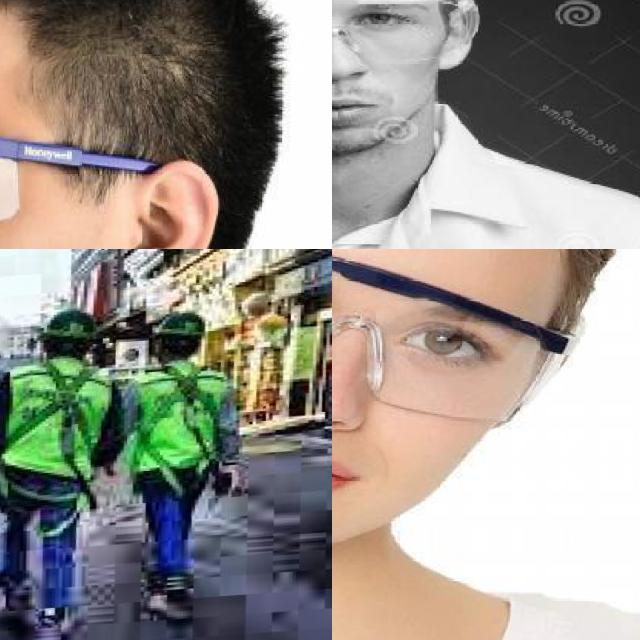Harness: (132, 363, 232, 490), (8, 358, 95, 464)
No_Ear-Protection: (117, 154, 222, 249)
face_nomask: (332, 260, 475, 514), (332, 0, 412, 146)
glasses: (332, 249, 574, 427), (0, 109, 175, 247), (332, 0, 470, 67)
head_nohelmet: (0, 0, 256, 64)
person: (332, 0, 640, 249)
